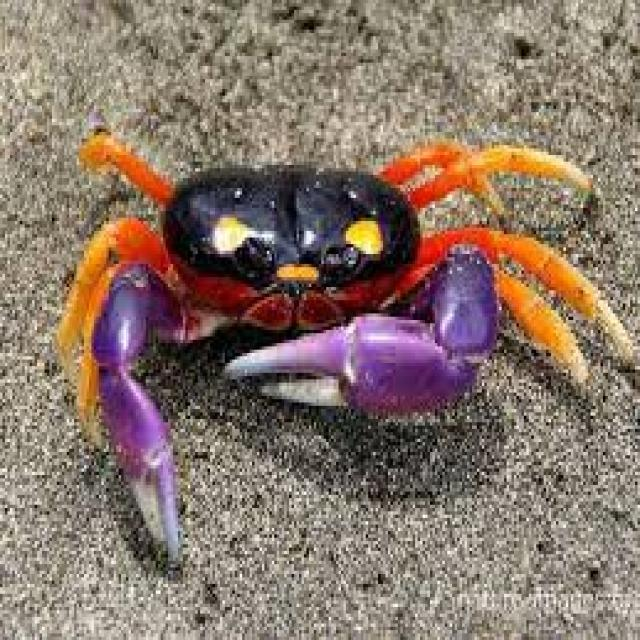crab: (111, 139, 453, 431)
